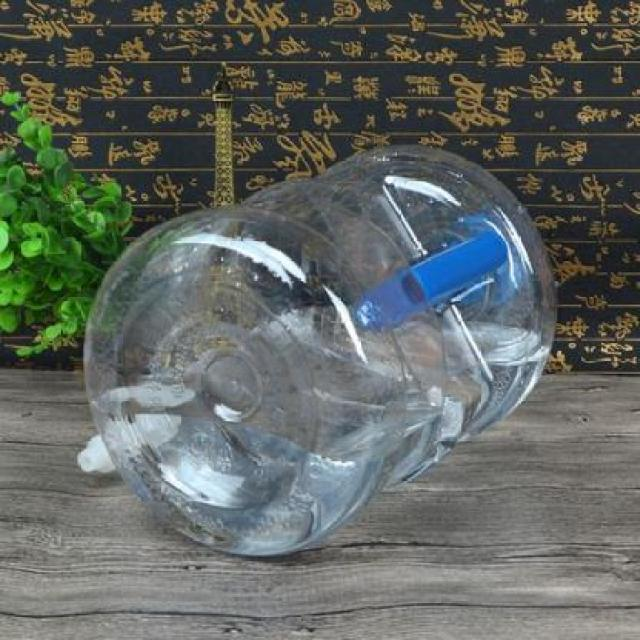coolerbottle: (80, 136, 563, 566)
